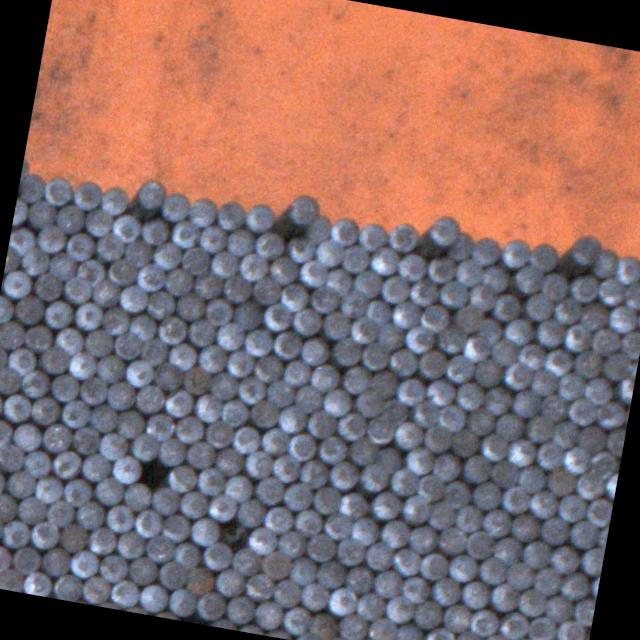tool: (286, 192, 321, 227), (18, 244, 52, 277), (527, 240, 560, 274), (386, 218, 419, 252), (426, 212, 459, 246), (213, 199, 246, 232), (70, 179, 103, 212), (186, 194, 218, 228), (573, 468, 605, 502), (570, 231, 602, 265), (498, 236, 530, 269), (158, 190, 190, 223), (41, 175, 73, 208), (469, 233, 501, 266), (136, 177, 168, 210), (78, 449, 110, 482), (54, 200, 86, 233), (99, 183, 131, 216), (403, 322, 436, 354), (244, 201, 276, 234), (369, 488, 402, 520), (356, 220, 388, 252), (134, 382, 166, 414), (384, 592, 416, 624), (326, 586, 358, 618), (378, 517, 410, 549), (496, 608, 528, 640), (150, 360, 182, 392), (6, 344, 38, 376), (326, 459, 358, 491), (328, 215, 360, 247), (304, 530, 336, 562), (252, 228, 284, 260), (512, 264, 544, 296), (14, 292, 46, 324), (364, 413, 396, 445), (48, 250, 80, 282), (582, 374, 614, 406), (444, 352, 476, 384), (138, 216, 170, 248), (52, 324, 84, 356), (438, 278, 470, 310), (228, 300, 260, 332), (602, 350, 634, 382), (84, 205, 115, 238), (105, 379, 136, 412), (223, 593, 256, 624), (105, 255, 138, 286), (110, 212, 142, 243), (66, 548, 98, 579), (394, 375, 426, 406), (259, 548, 291, 579), (0, 266, 31, 298), (196, 588, 227, 620), (270, 330, 302, 361), (144, 531, 176, 562), (188, 516, 220, 547), (262, 504, 293, 536), (125, 553, 156, 585), (40, 420, 71, 452), (247, 525, 279, 556), (20, 448, 52, 479), (446, 552, 477, 584), (378, 274, 409, 306), (250, 274, 282, 305), (407, 522, 438, 554), (118, 282, 149, 314), (172, 413, 204, 444), (490, 534, 521, 566), (262, 301, 294, 332), (130, 430, 162, 461), (39, 546, 70, 578), (178, 488, 209, 520), (87, 401, 118, 433), (148, 484, 179, 516), (253, 474, 284, 506), (206, 492, 238, 523), (214, 566, 245, 598), (156, 314, 187, 346), (511, 386, 542, 418), (566, 517, 598, 548), (162, 386, 194, 417), (98, 431, 130, 462), (321, 385, 353, 416), (156, 558, 187, 590), (394, 251, 426, 282), (31, 270, 62, 302), (410, 598, 441, 630), (92, 475, 124, 506), (493, 411, 525, 442), (135, 260, 166, 292), (43, 297, 74, 329), (298, 456, 329, 488), (82, 327, 114, 358), (338, 488, 369, 520), (27, 198, 58, 230), (65, 231, 97, 262), (572, 348, 604, 379), (387, 465, 419, 496), (356, 460, 388, 491), (98, 304, 129, 336), (150, 240, 182, 271), (331, 337, 363, 368), (535, 316, 566, 348), (578, 301, 610, 332), (575, 422, 606, 454), (502, 359, 534, 390), (18, 367, 50, 398), (416, 348, 447, 380), (408, 276, 439, 308), (93, 352, 124, 384), (74, 498, 106, 529), (222, 227, 254, 258), (309, 282, 340, 314), (436, 323, 468, 354), (454, 255, 484, 288), (16, 170, 46, 203), (592, 247, 622, 280), (447, 228, 477, 261), (464, 529, 495, 560), (481, 507, 512, 538), (417, 548, 448, 579), (105, 502, 136, 533), (60, 398, 91, 429), (315, 558, 346, 589), (196, 341, 227, 372), (115, 527, 146, 558), (268, 256, 299, 287), (275, 404, 306, 435), (201, 540, 232, 571), (471, 479, 502, 510), (243, 327, 274, 358), (367, 245, 398, 276), (77, 375, 108, 406), (170, 218, 201, 249), (61, 476, 92, 507), (184, 566, 215, 597), (10, 421, 41, 452), (213, 321, 244, 352), (285, 431, 316, 462), (388, 299, 419, 330), (537, 515, 568, 546), (321, 510, 352, 541), (36, 223, 67, 254), (3, 467, 34, 498), (476, 553, 507, 584), (85, 523, 116, 554), (306, 408, 337, 439), (29, 395, 60, 426), (504, 436, 535, 467), (178, 243, 209, 274), (56, 522, 87, 553), (538, 271, 569, 302), (98, 552, 129, 583), (248, 398, 279, 429), (472, 356, 503, 387), (21, 322, 52, 353), (354, 387, 385, 418), (552, 294, 583, 325), (490, 291, 521, 322), (62, 273, 93, 304), (411, 397, 442, 428), (454, 302, 485, 333), (196, 466, 228, 496), (271, 450, 301, 482), (336, 410, 368, 440), (278, 280, 308, 312), (184, 438, 216, 468), (110, 452, 140, 484), (516, 586, 546, 618), (430, 574, 460, 606), (334, 536, 366, 566), (489, 580, 519, 612), (440, 602, 470, 634), (348, 515, 378, 547), (588, 326, 620, 356), (238, 250, 268, 282), (354, 592, 386, 622), (122, 480, 152, 512), (360, 339, 390, 371), (172, 292, 204, 322), (522, 290, 554, 320), (468, 606, 498, 638), (402, 492, 432, 524), (292, 305, 324, 335), (164, 341, 196, 371), (70, 424, 100, 456), (122, 358, 154, 388), (146, 288, 176, 320), (566, 272, 598, 302), (110, 328, 142, 358), (460, 578, 490, 610), (120, 238, 152, 268), (198, 224, 228, 256), (594, 398, 626, 428), (242, 572, 274, 602), (338, 288, 368, 320), (304, 212, 334, 244), (192, 268, 224, 298), (368, 367, 398, 399), (132, 507, 162, 538), (298, 582, 329, 612), (316, 433, 346, 464), (520, 539, 550, 570), (50, 572, 81, 602), (338, 610, 369, 640), (143, 412, 174, 442), (162, 266, 193, 296), (548, 544, 578, 575), (138, 582, 169, 612), (454, 379, 484, 410), (348, 312, 378, 343), (340, 243, 370, 274), (425, 376, 456, 406), (291, 508, 322, 538), (365, 540, 396, 570), (16, 494, 46, 525), (0, 519, 30, 550), (288, 554, 318, 585), (595, 276, 625, 307), (556, 491, 586, 522), (296, 258, 327, 288), (281, 604, 311, 635), (160, 511, 190, 542), (500, 484, 530, 515), (431, 451, 461, 482), (314, 237, 344, 268), (1, 391, 31, 422), (192, 392, 222, 423), (309, 361, 340, 391), (254, 598, 284, 629), (253, 352, 284, 382), (237, 372, 267, 403), (418, 302, 449, 332), (464, 405, 494, 436), (230, 544, 261, 574), (532, 565, 562, 596), (218, 396, 248, 427), (74, 299, 104, 330), (322, 309, 352, 340), (94, 232, 125, 262), (67, 350, 97, 381), (372, 567, 402, 598), (236, 498, 266, 529), (509, 512, 540, 542), (32, 472, 62, 503), (437, 524, 468, 554), (223, 472, 254, 502), (560, 570, 590, 601), (393, 419, 423, 450), (126, 312, 157, 342), (272, 577, 302, 608), (114, 408, 144, 439), (344, 564, 375, 594), (524, 412, 554, 443), (562, 321, 592, 352), (516, 464, 546, 495), (46, 496, 76, 527), (138, 334, 168, 365), (300, 335, 330, 366), (347, 436, 378, 466), (48, 371, 78, 402), (214, 445, 244, 476), (606, 302, 636, 333), (482, 384, 512, 415), (386, 348, 417, 378), (542, 346, 573, 376), (501, 316, 532, 346), (351, 269, 382, 299), (186, 317, 217, 347), (542, 592, 573, 622), (567, 394, 597, 425), (425, 254, 456, 284), (544, 465, 574, 496), (340, 364, 370, 395), (400, 573, 430, 604), (534, 440, 564, 471), (478, 263, 509, 293), (39, 344, 70, 374), (528, 366, 558, 397), (540, 391, 570, 422), (75, 257, 106, 287), (423, 422, 453, 453), (584, 494, 613, 526), (307, 611, 339, 640), (30, 520, 60, 550), (52, 448, 82, 478), (478, 430, 508, 460), (110, 577, 140, 607), (276, 529, 306, 559), (405, 444, 435, 474), (226, 347, 256, 377), (526, 488, 556, 518), (452, 502, 482, 532), (413, 474, 443, 504), (461, 454, 491, 484), (242, 448, 272, 478), (264, 378, 294, 408), (204, 420, 234, 450), (208, 370, 238, 400), (435, 402, 465, 432), (231, 424, 261, 454), (310, 484, 340, 514), (166, 586, 196, 616), (166, 462, 196, 492), (282, 480, 312, 510), (561, 444, 591, 474), (202, 296, 232, 326), (392, 546, 422, 576), (548, 420, 578, 450), (293, 383, 323, 413), (554, 372, 584, 402), (80, 575, 110, 605), (11, 545, 41, 575), (442, 478, 472, 508), (490, 458, 520, 488), (504, 560, 534, 590), (258, 426, 288, 456), (374, 320, 404, 350), (322, 266, 352, 296), (90, 278, 120, 308), (208, 250, 238, 280), (182, 364, 212, 394), (588, 448, 618, 478), (466, 280, 496, 310), (220, 272, 250, 302), (460, 332, 490, 362), (8, 224, 36, 256), (613, 251, 640, 284), (282, 357, 312, 386), (171, 539, 201, 568), (449, 428, 478, 458), (285, 234, 315, 263), (428, 500, 457, 530), (374, 445, 403, 474), (516, 341, 545, 370), (158, 437, 186, 467), (488, 336, 518, 364), (363, 296, 391, 326), (526, 613, 557, 640), (379, 396, 408, 424), (23, 570, 53, 597), (0, 442, 26, 473), (366, 614, 397, 640), (578, 546, 604, 577), (0, 318, 23, 350), (555, 617, 586, 640), (604, 424, 626, 456), (478, 317, 503, 345), (617, 328, 640, 358), (572, 596, 596, 624), (0, 566, 25, 592), (0, 366, 21, 396), (394, 621, 425, 640), (622, 279, 640, 311), (0, 491, 17, 523), (4, 244, 22, 274), (616, 376, 634, 404), (422, 625, 454, 640), (0, 293, 15, 323), (12, 198, 28, 226), (602, 470, 618, 498), (238, 622, 266, 636), (0, 417, 12, 448), (210, 617, 238, 630), (267, 627, 295, 640), (596, 521, 609, 549), (295, 628, 324, 640), (452, 629, 482, 640), (0, 543, 10, 574), (589, 572, 600, 599), (94, 599, 121, 610), (122, 604, 150, 614), (152, 610, 179, 620), (20, 156, 31, 180), (479, 632, 511, 640), (0, 342, 7, 370), (323, 634, 352, 640), (635, 304, 640, 332)
tool_b: (216, 519, 252, 550)
void: (137, 459, 171, 489)
